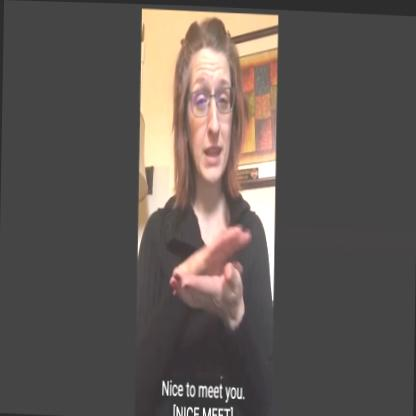NiceToMeetYou: (162, 214, 251, 322)
